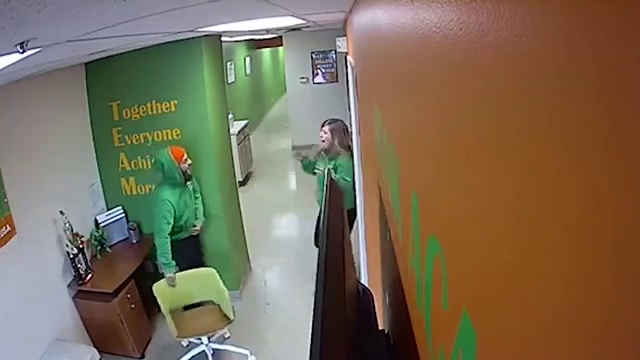face: (174, 155, 194, 179), (320, 127, 336, 148)
